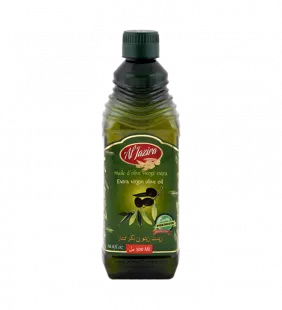AL JAZIRA: (91, 19, 189, 285)
